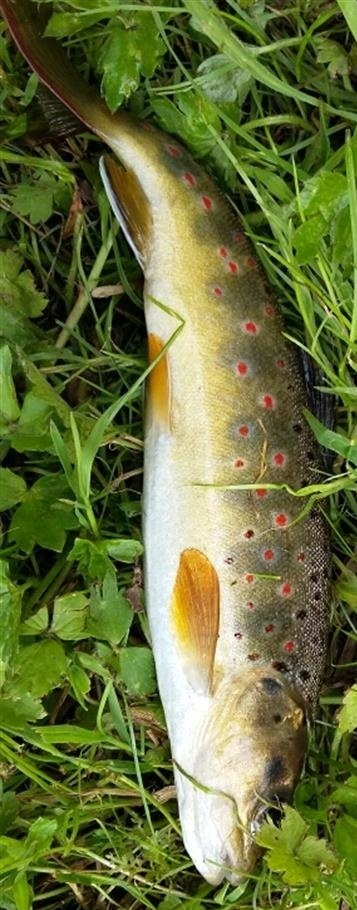Salmo trutta subsp. fario: (1, 1, 337, 890)
